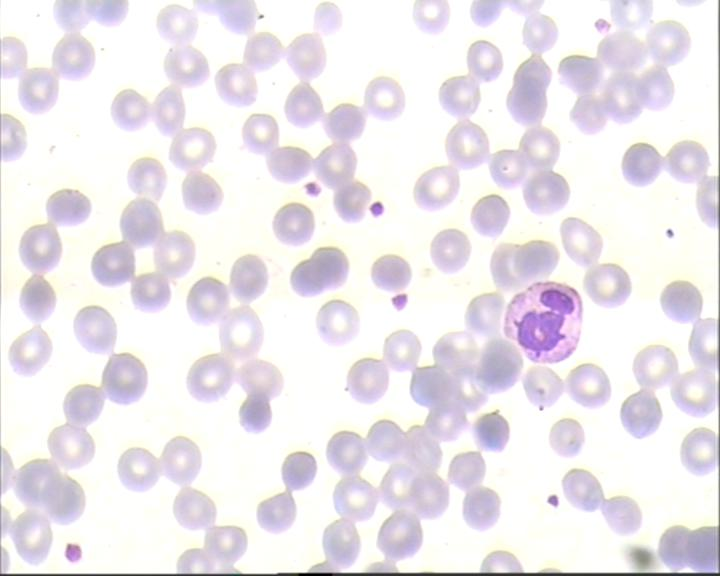neut: (502, 277, 590, 364)
